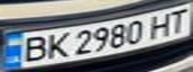0: (124, 17, 151, 45)
2: (72, 27, 96, 56)
8: (109, 20, 130, 50)
9: (90, 25, 112, 53)
B: (15, 34, 51, 64)
H: (145, 10, 178, 39)
K: (42, 30, 72, 61)
T: (163, 7, 193, 35)
